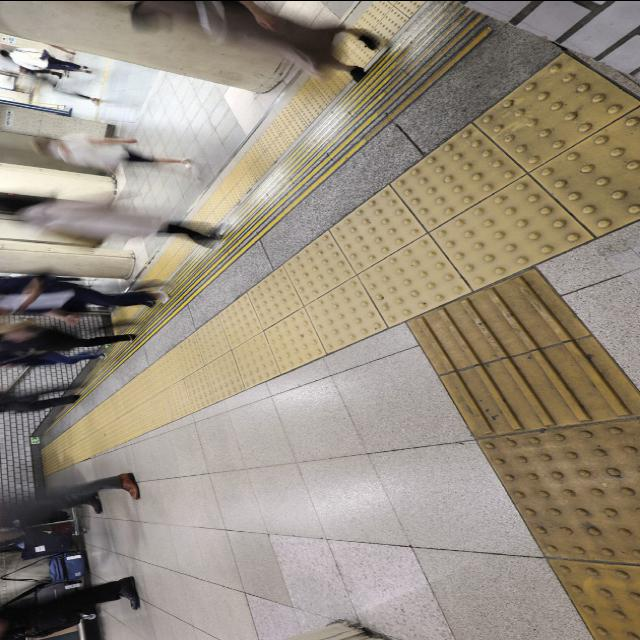tactile-guide-path: (41, 53, 639, 475), (109, 1, 427, 336), (401, 266, 639, 440), (476, 418, 638, 640)
